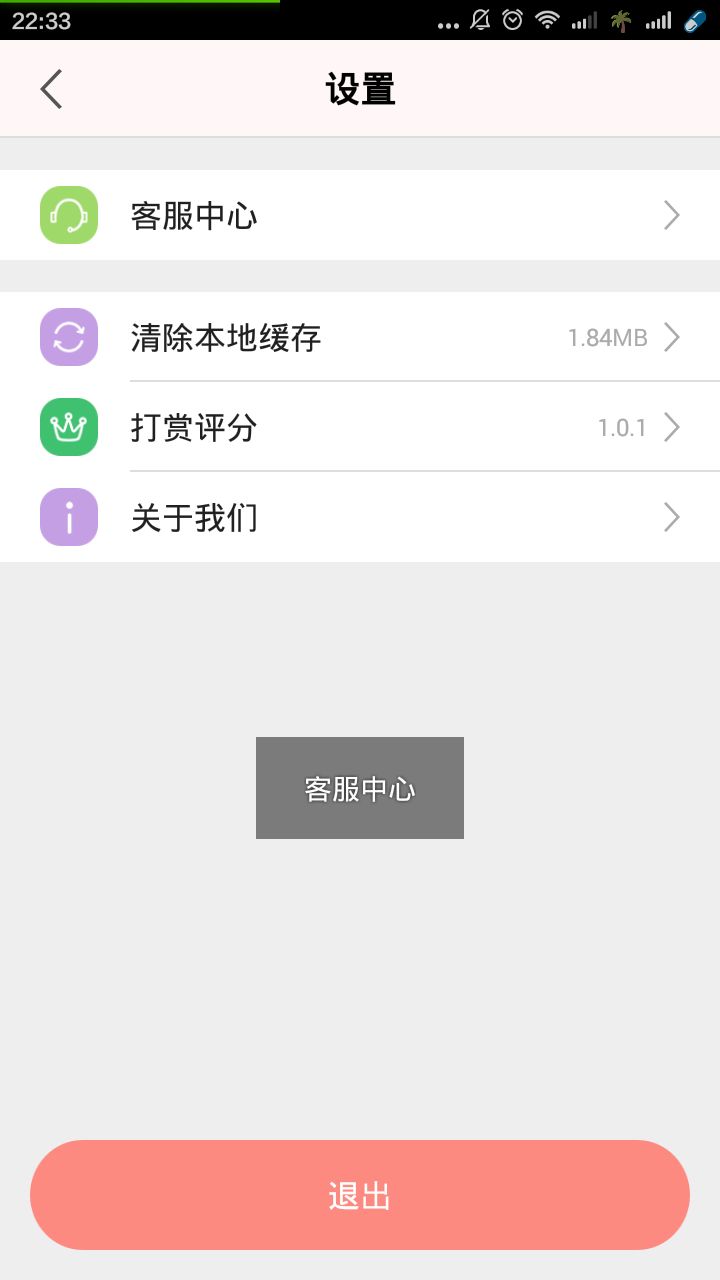alert: (249, 734, 469, 844)
button: (21, 1138, 697, 1258)
imgbutton: (22, 60, 85, 131)
textview: (4, 173, 714, 264), (10, 294, 714, 374), (6, 380, 565, 473), (1, 474, 558, 555)
